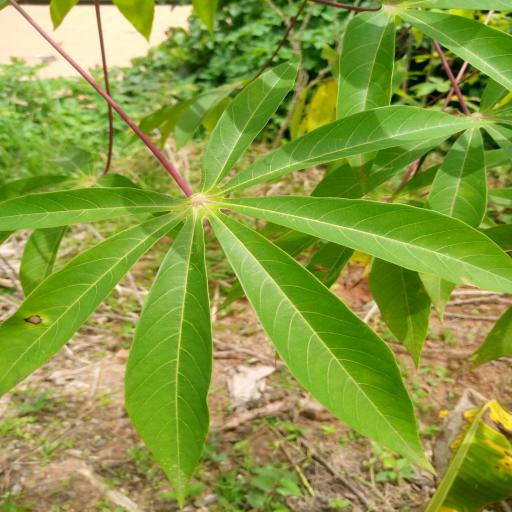Cassava_Brown_Leaf_Spot: (2, 69, 512, 496)
